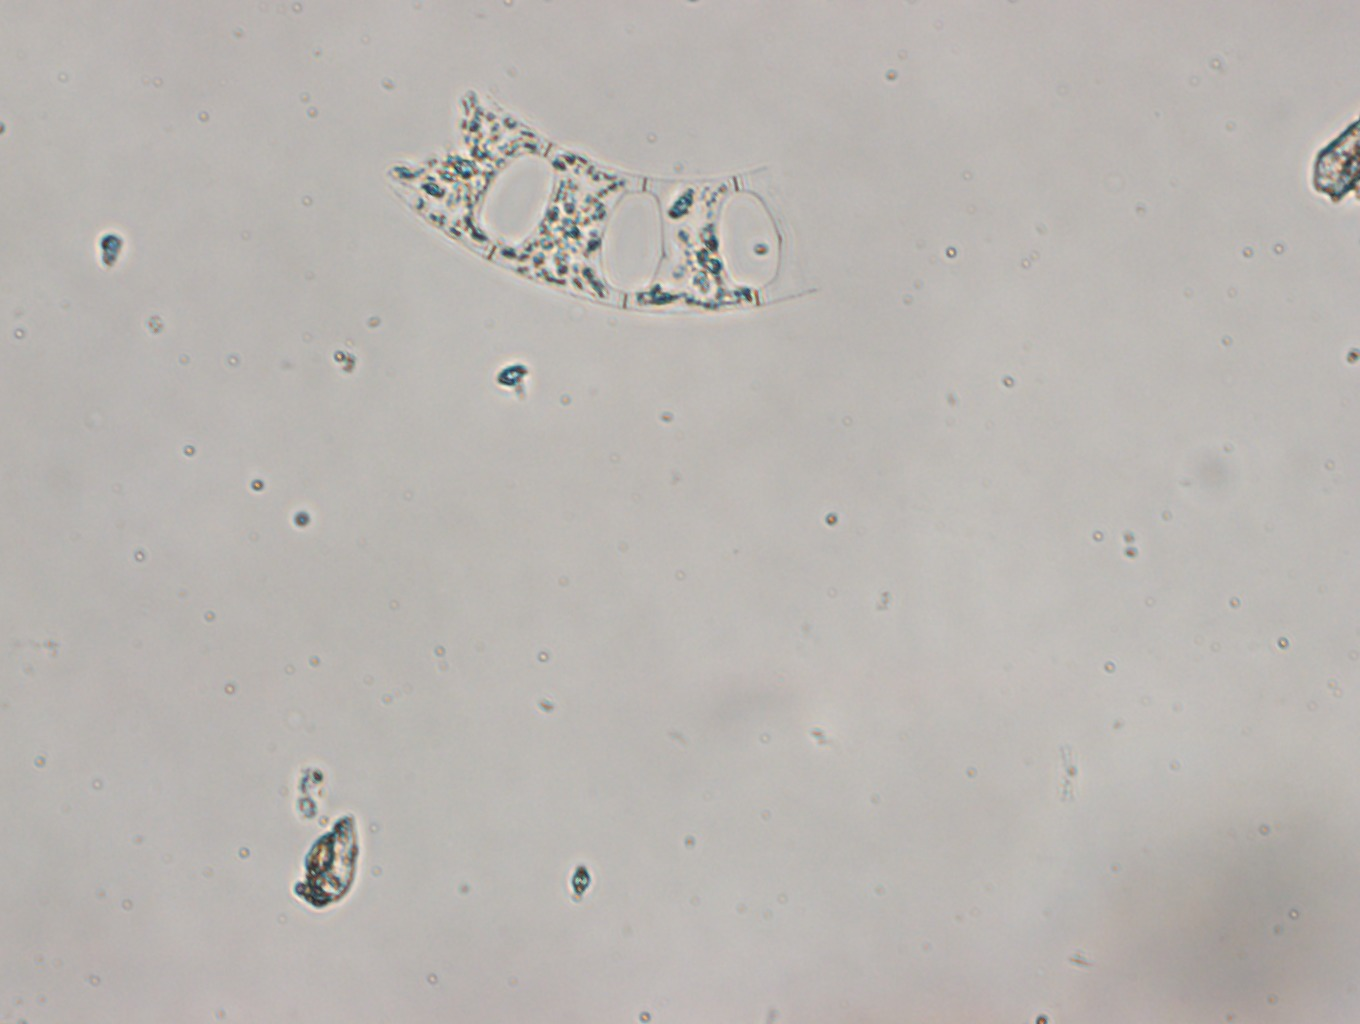eucampia: (382, 83, 824, 317)
